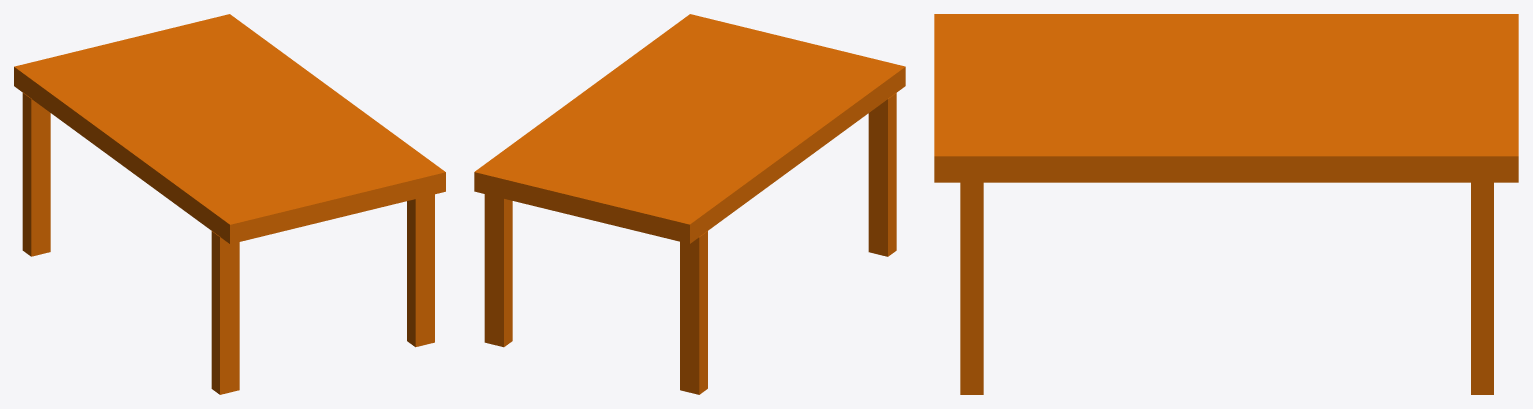
Rendered from mesa.fbx.
The picture shows the model from 3 angles, left to right: view 1: azimuth 30°, elevation 25°; view 2: azimuth 150°, elevation 25°; view 3: azimuth 270°, elevation 25°; orthographic projection. The views are drawn at different scales.
Visible parts, largest first — view 1: mesa; view 2: mesa; view 3: mesa.
Boxes of the visible parts, x1=… form: mesa: x1=14, y1=14, x2=445, y2=394; mesa: x1=474, y1=14, x2=905, y2=394; mesa: x1=934, y1=14, x2=1518, y2=394.
Size of the model in its own units: 222 by 173 by 384.
